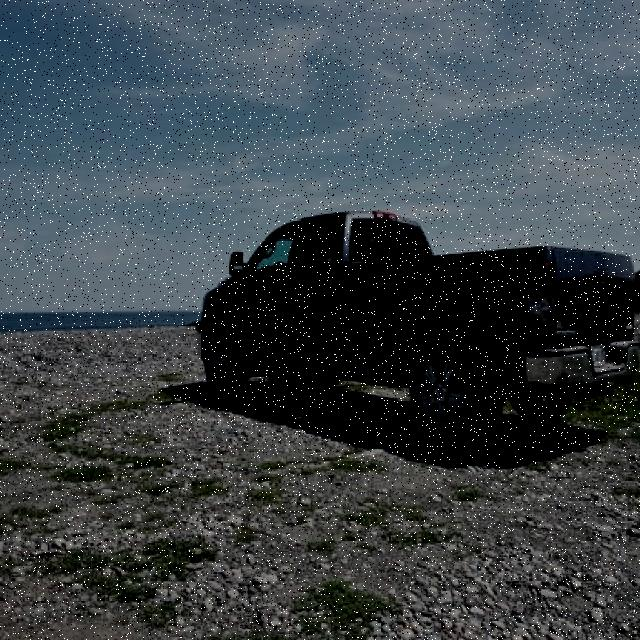license_plate: (590, 344, 606, 366)
